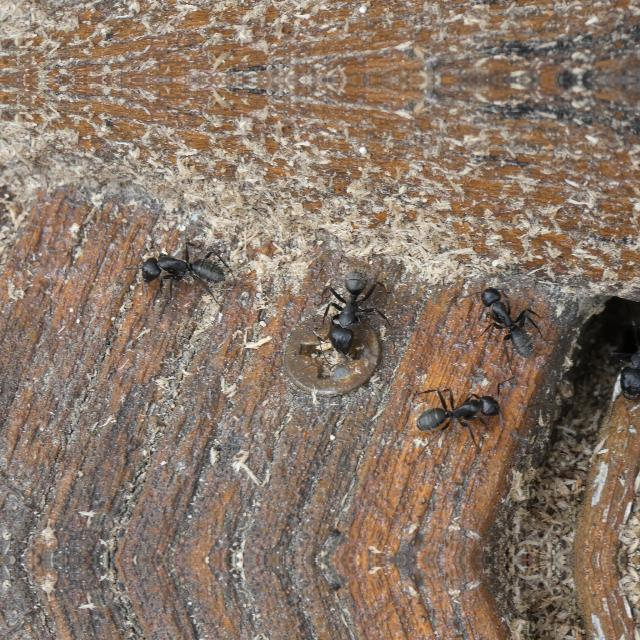Camponotus: (314, 264, 400, 366), (404, 374, 506, 456), (472, 268, 550, 368), (134, 248, 232, 302), (603, 324, 639, 406)
